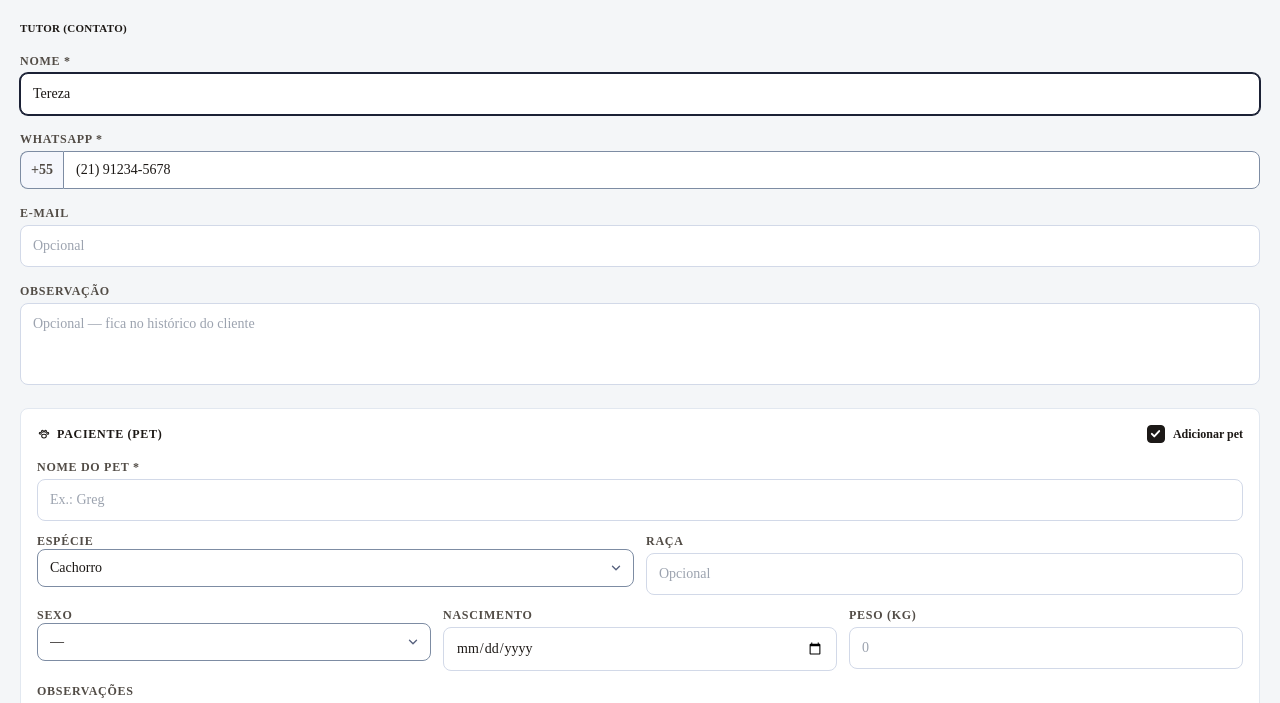
it: §19–25 · NewClientForm embedded (cadastro rápido no lado) › traz o rodapé próprio com as strings travadas (tutor e pet)
Note: desliga o pet → vira cadastro só de tutor
Step 1. Click the checkbox labelled "Adicionar pet" → coordinates (1156, 434), box 1147,424 -> 1165,442
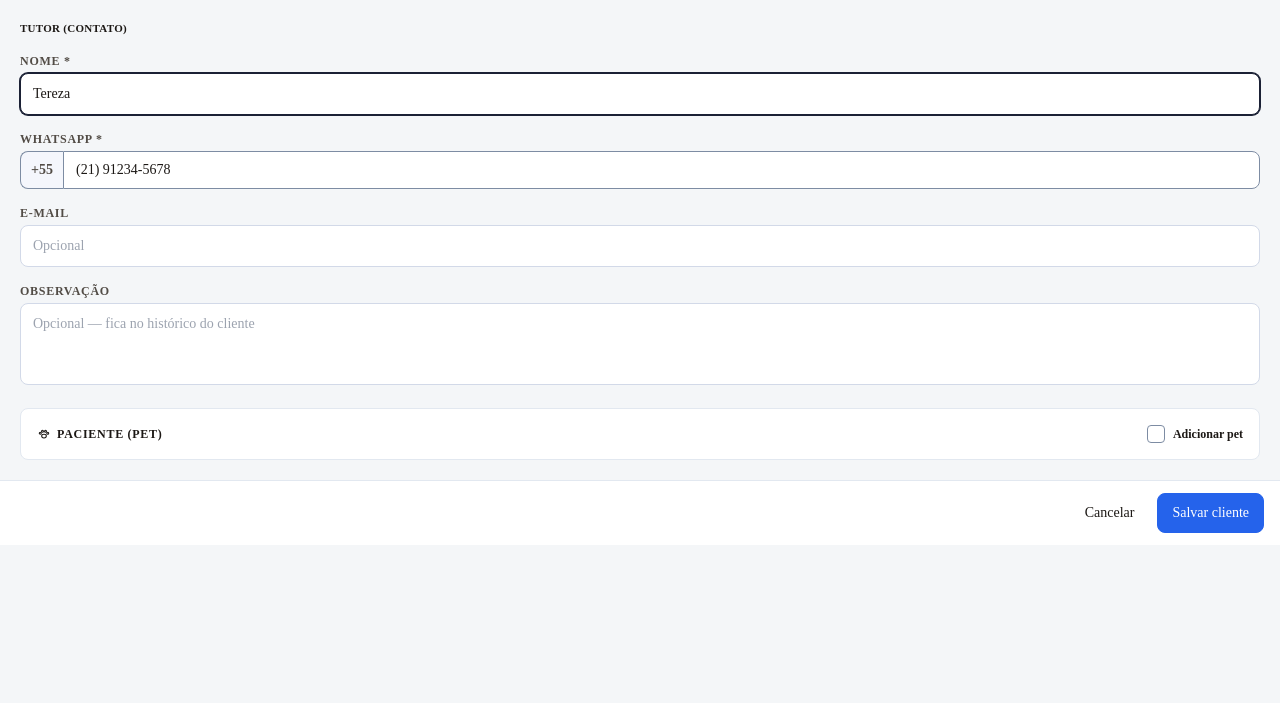
Expected: the button "Salvar cliente" is shown, 1157,492 -> 1264,532
